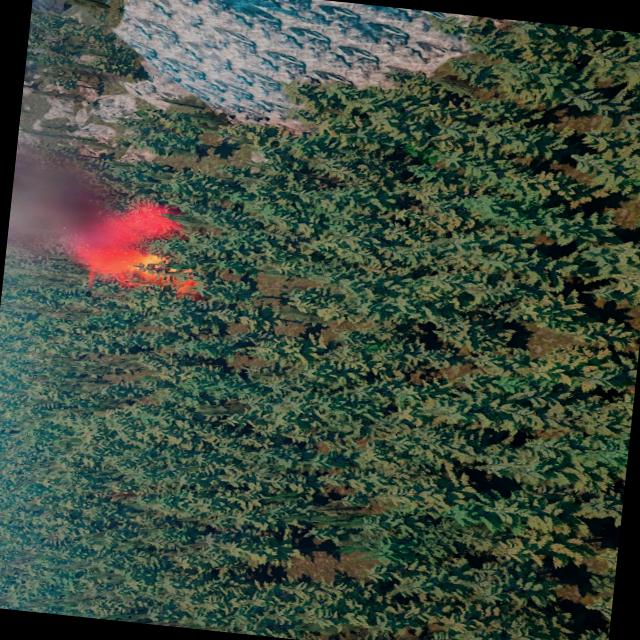fire: (84, 242, 204, 296)
smoke: (4, 126, 180, 278)
